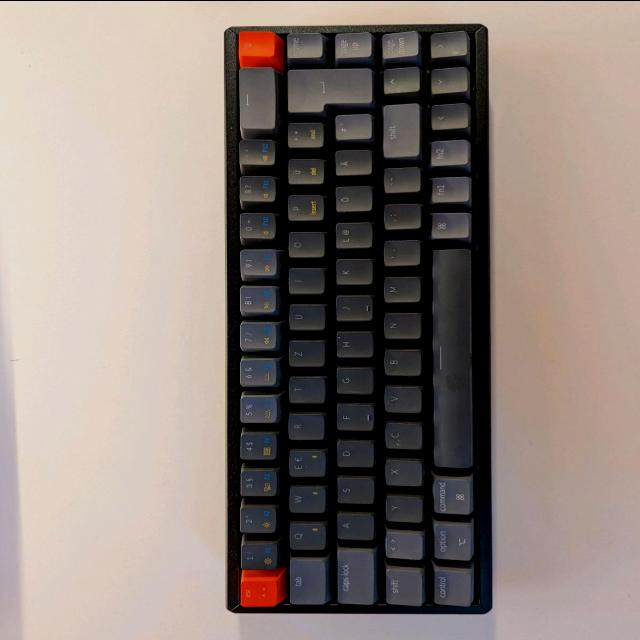0: (236, 212, 276, 242)
1: (237, 544, 277, 571)
2: (236, 506, 276, 534)
3: (236, 470, 278, 498)
4: (236, 433, 278, 461)
5: (236, 396, 278, 425)
6: (236, 358, 277, 388)
7: (237, 322, 277, 352)
8: (236, 286, 278, 317)
9: (237, 249, 278, 279)
a: (334, 514, 374, 542)
accent: (235, 140, 275, 168)
ae: (331, 150, 371, 178)
alt-left: (432, 520, 474, 560)
b: (380, 349, 420, 377)
c: (381, 423, 421, 451)
caret: (238, 580, 276, 608)
comma: (380, 240, 420, 268)
d: (333, 441, 373, 469)
del: (236, 67, 274, 132)
e: (285, 450, 325, 478)
enter: (283, 67, 373, 114)
f: (333, 404, 373, 432)
g: (332, 368, 372, 396)
h: (332, 331, 372, 359)
hash: (332, 115, 370, 142)
i: (285, 269, 323, 296)
j: (332, 295, 372, 323)
k: (332, 259, 372, 287)
keyboard: (217, 19, 491, 619)
l: (332, 223, 372, 251)
less: (382, 532, 422, 561)
m: (379, 276, 419, 304)
minus: (381, 167, 419, 195)
n: (380, 313, 420, 341)
o: (284, 232, 324, 260)
oe: (331, 186, 371, 214)
p: (284, 194, 325, 222)
plus: (283, 122, 323, 150)
point: (380, 204, 420, 232)
q: (285, 523, 325, 551)
r: (285, 413, 324, 441)
s: (334, 478, 374, 506)
shift-left: (382, 570, 422, 608)
shift-lock: (333, 550, 374, 606)
shift-right: (378, 103, 418, 159)
space: (428, 246, 472, 472)
ss: (236, 175, 276, 203)
strg-left: (429, 568, 471, 608)
t: (285, 377, 324, 405)
tab: (285, 559, 325, 606)
u: (285, 304, 324, 332)
ue: (284, 159, 324, 187)
v: (381, 386, 421, 415)
w: (285, 487, 325, 515)
x: (382, 460, 422, 488)
y: (382, 496, 422, 524)
z: (285, 341, 324, 369)
